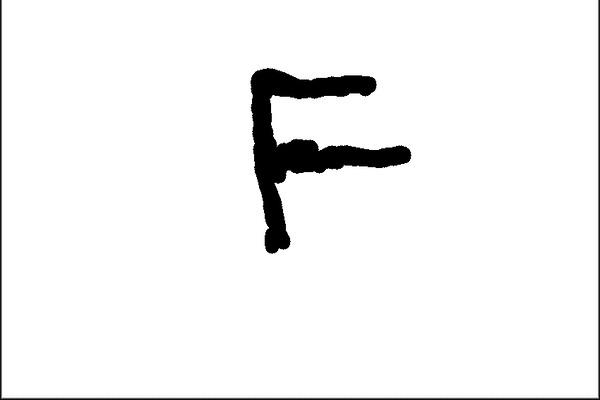F: (243, 62, 415, 256)
